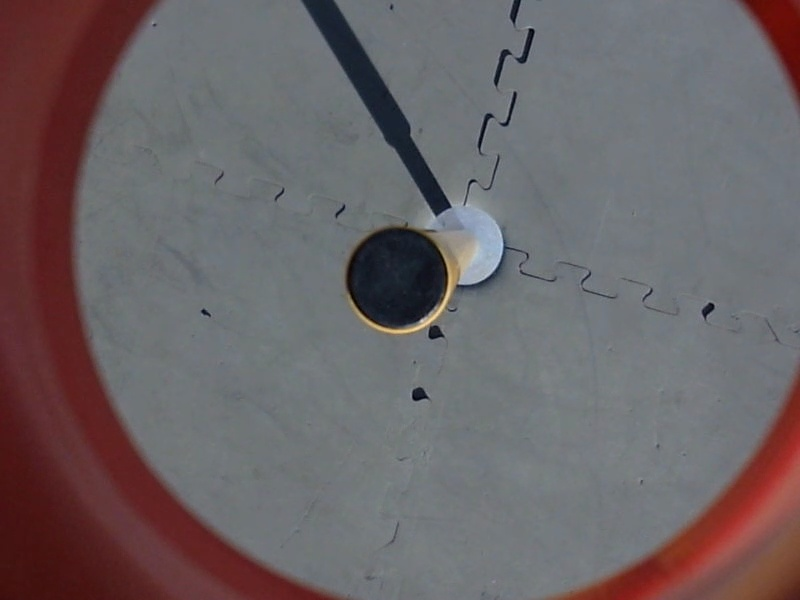tip: (342, 220, 460, 337)
